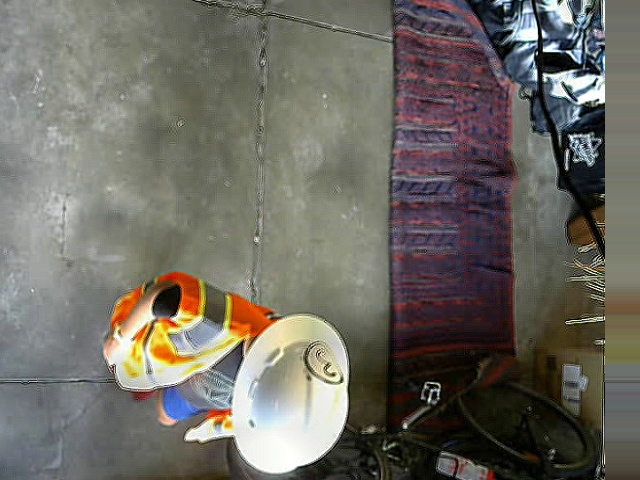three: (305, 341, 345, 386)
